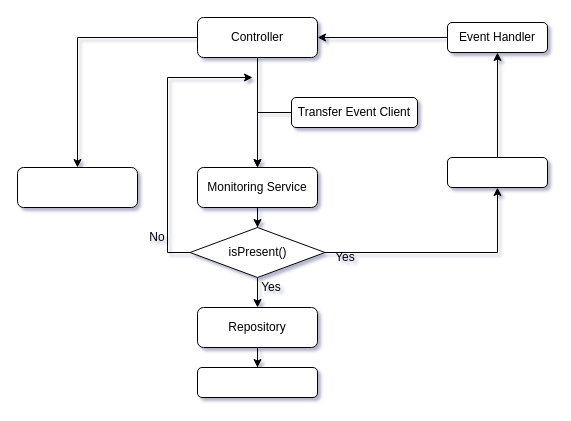
Some shapes in this 571 by 421 pixel diagram are drawn without their labels. The box of each missing label's shape, as (x1, y1, x2, y2) in pixels:
Event Dispatcher: (446, 156, 548, 188)
H2 Database: (196, 366, 318, 398)
Notification Service: (16, 166, 138, 208)
